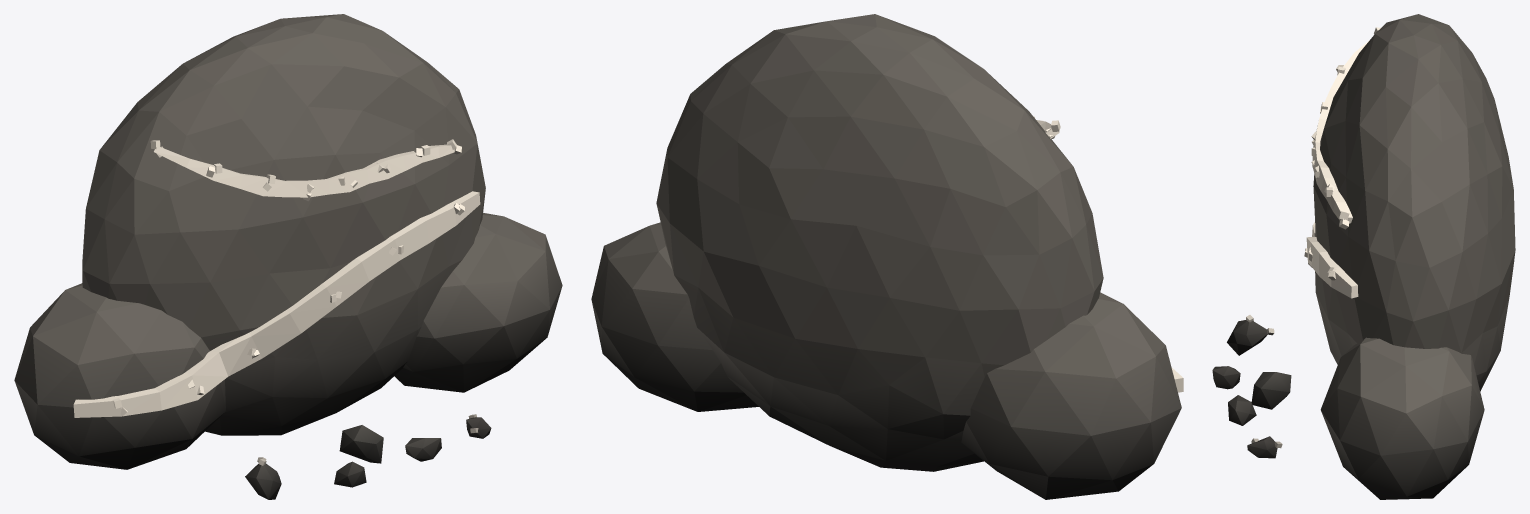
Rendered from SM_VKI_Prop_Vein_Gold.fbx.
3 renders of one model, left to right at view 1: azimuth 30°, elevation 25°; view 2: azimuth 150°, elevation 25°; view 3: azimuth 270°, elevation 25°, orthographic. The views are drawn at different scales.
Parts seen in each view (by area): view 1: SM_VKI_Prop_Vein_Gold.001; view 2: SM_VKI_Prop_Vein_Gold.001; view 3: SM_VKI_Prop_Vein_Gold.001.
Boxes of the visible parts, x1,y1,x2,y2 form: SM_VKI_Prop_Vein_Gold.001: [14, 14, 562, 499]; SM_VKI_Prop_Vein_Gold.001: [591, 14, 1183, 499]; SM_VKI_Prop_Vein_Gold.001: [1212, 14, 1515, 499].
Size of the model in its own units: 2.29 by 1.69 by 1.19.
